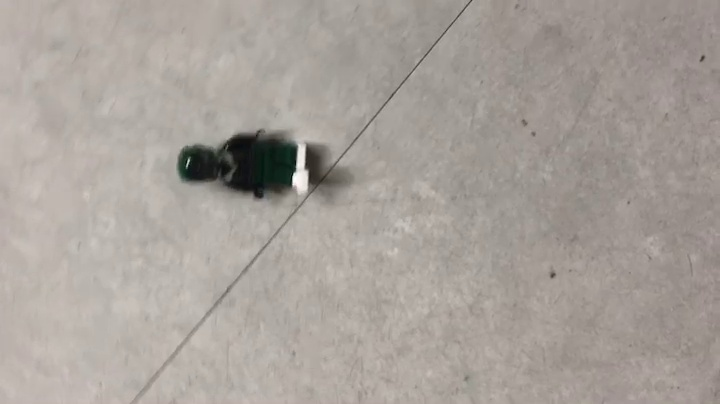people: (178, 128, 326, 200)
